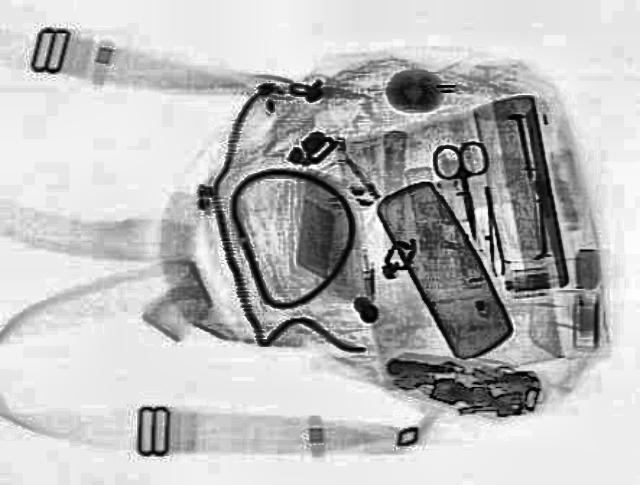Scissors: (427, 140, 501, 240)
